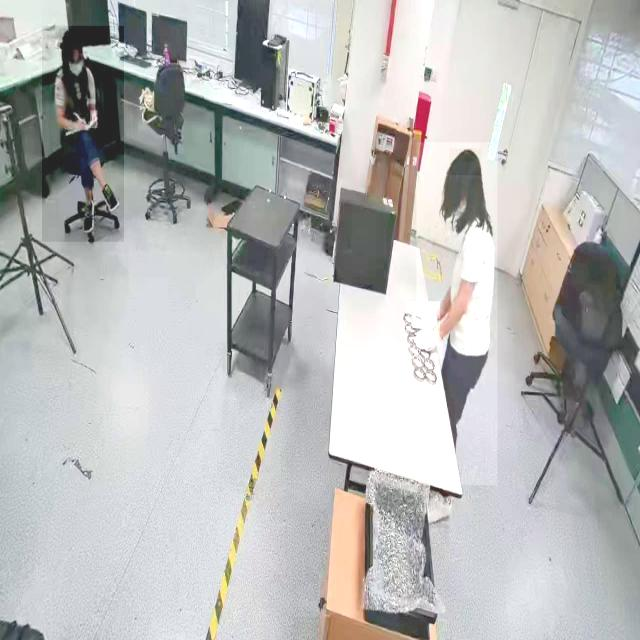face_mask: (67, 52, 89, 80)
hand_glove: (406, 302, 440, 332), (408, 332, 444, 360)
hand_noglove: (75, 117, 87, 131), (90, 110, 98, 129)
head_nohelmet: (450, 148, 482, 176), (59, 28, 83, 50)
person: (416, 142, 498, 486), (42, 26, 124, 242)
shoes: (80, 198, 98, 239), (100, 182, 121, 216)
